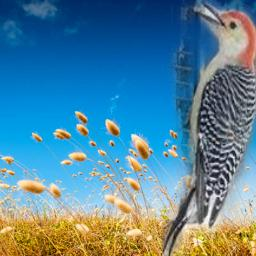Woodpecker: (162, 0, 256, 256)
